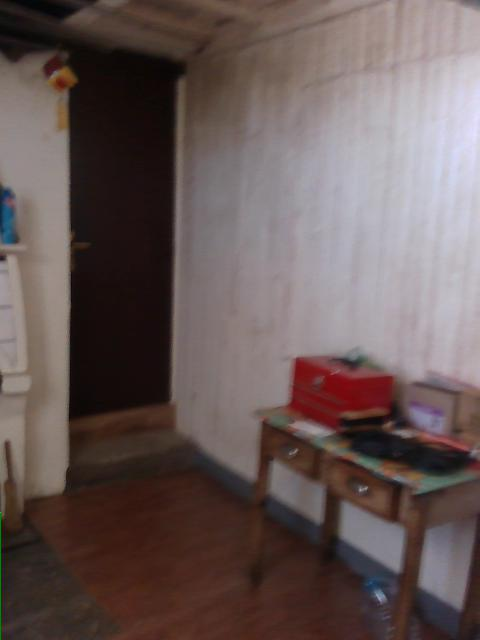closed_door: (67, 39, 184, 420)
